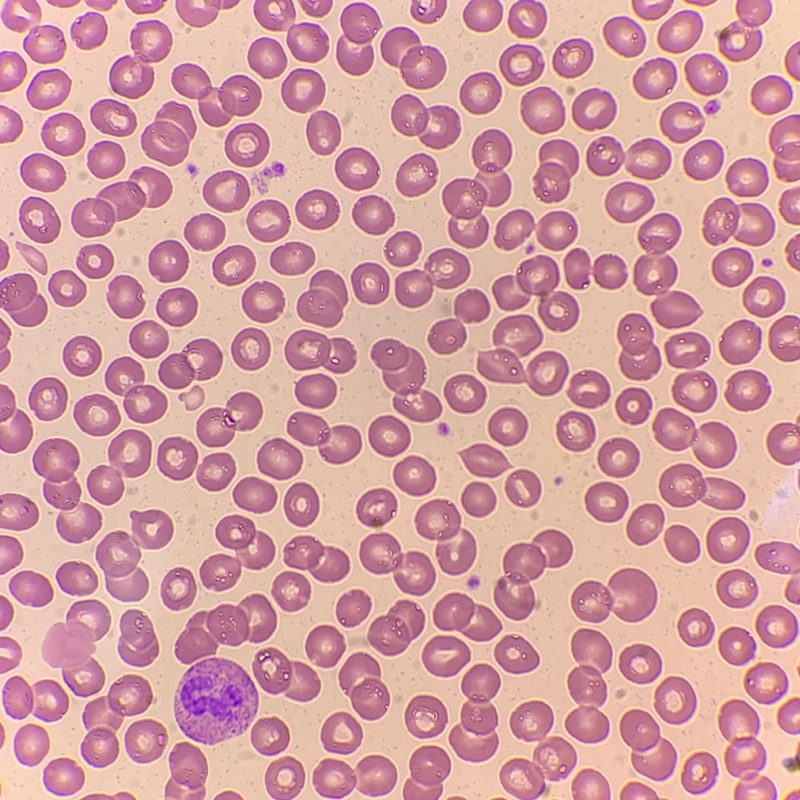RBC: (443, 129, 511, 247), (634, 213, 700, 328), (174, 658, 257, 743), (175, 594, 276, 663), (494, 530, 572, 619), (72, 167, 171, 236), (81, 675, 151, 767), (492, 256, 578, 330), (371, 339, 441, 421), (51, 600, 110, 696), (200, 515, 274, 590), (172, 64, 260, 126), (449, 664, 499, 761), (653, 408, 735, 467), (109, 20, 171, 98), (500, 737, 576, 799), (572, 568, 656, 622), (360, 534, 434, 594), (395, 249, 469, 307), (428, 289, 489, 354), (105, 357, 166, 422), (620, 710, 676, 780), (381, 27, 445, 88), (660, 464, 744, 509), (287, 412, 361, 463), (391, 95, 459, 148), (96, 532, 147, 601), (253, 648, 320, 700), (197, 392, 261, 446), (141, 102, 195, 164), (703, 198, 774, 245), (339, 653, 389, 719), (33, 439, 80, 509), (717, 0, 771, 60), (433, 593, 500, 641), (159, 339, 222, 388), (368, 600, 424, 655), (337, 3, 380, 74), (285, 330, 355, 372), (284, 536, 349, 581), (297, 270, 347, 326), (618, 314, 660, 379), (535, 140, 578, 201), (403, 746, 450, 799), (0, 273, 46, 326), (165, 742, 207, 797), (118, 610, 158, 666), (521, 87, 564, 133), (109, 430, 151, 476), (493, 315, 541, 355), (707, 517, 749, 562), (203, 171, 249, 212), (655, 677, 696, 723), (606, 182, 653, 222), (423, 636, 470, 676), (225, 123, 268, 166), (658, 10, 702, 52), (719, 320, 761, 364), (257, 438, 302, 479), (282, 69, 324, 112), (42, 113, 85, 155), (74, 395, 119, 435), (756, 605, 798, 647), (405, 695, 447, 737), (500, 44, 543, 85), (673, 371, 716, 412), (572, 89, 616, 129), (726, 370, 770, 410), (416, 500, 460, 540), (744, 663, 788, 703), (20, 197, 59, 242), (335, 148, 377, 189), (125, 720, 166, 762), (633, 58, 676, 98), (27, 69, 70, 109), (725, 737, 765, 780), (20, 153, 65, 191), (460, 72, 501, 113), (247, 200, 288, 241), (685, 54, 727, 94), (661, 102, 703, 142), (477, 348, 525, 383), (157, 437, 197, 479), (585, 482, 628, 521), (529, 351, 567, 395), (90, 99, 135, 136), (629, 139, 670, 179), (743, 276, 784, 316), (296, 190, 338, 229), (242, 283, 284, 322), (510, 701, 552, 740), (265, 757, 304, 799), (313, 759, 355, 798), (369, 416, 409, 456), (321, 713, 361, 753), (604, 17, 645, 56), (397, 154, 436, 195), (598, 438, 639, 477), (394, 456, 435, 495), (620, 644, 661, 683), (23, 25, 65, 63), (352, 196, 394, 234), (149, 240, 187, 282), (495, 636, 538, 673), (537, 211, 577, 250), (571, 629, 611, 668), (287, 23, 328, 61), (213, 246, 254, 284), (569, 370, 610, 408), (444, 374, 485, 412), (306, 626, 344, 667), (29, 378, 66, 420), (566, 706, 608, 743), (665, 332, 709, 367), (553, 38, 592, 77), (684, 140, 723, 179), (436, 535, 475, 574), (248, 38, 286, 78), (752, 75, 792, 113), (727, 158, 767, 196), (712, 248, 752, 286), (351, 263, 389, 303), (132, 510, 172, 548), (358, 755, 396, 795), (232, 328, 269, 369), (233, 477, 276, 512), (57, 507, 100, 542), (495, 210, 533, 249), (157, 288, 196, 326), (63, 336, 101, 375), (357, 489, 396, 527), (717, 570, 757, 607), (43, 758, 83, 795), (681, 753, 717, 794), (108, 276, 143, 318), (10, 571, 52, 606), (284, 483, 318, 526), (568, 665, 606, 703), (587, 136, 624, 175), (129, 320, 168, 357), (488, 408, 527, 445), (557, 412, 594, 451), (184, 214, 224, 250), (462, 444, 507, 476), (627, 504, 663, 544), (307, 111, 340, 154), (251, 718, 289, 755), (295, 374, 336, 408), (161, 568, 195, 609), (271, 242, 314, 274), (509, 0, 546, 37), (197, 453, 234, 490), (87, 466, 123, 504), (273, 572, 309, 610), (719, 627, 755, 665), (719, 700, 759, 734), (14, 725, 48, 765), (35, 680, 68, 721), (769, 316, 799, 361), (756, 542, 799, 573), (71, 12, 107, 49), (88, 141, 124, 178), (767, 423, 799, 464), (770, 114, 799, 159), (49, 270, 85, 306), (0, 494, 37, 529), (678, 609, 713, 646), (57, 562, 97, 594), (2, 677, 33, 718), (665, 525, 699, 562), (0, 413, 32, 452), (616, 388, 651, 423), (77, 244, 113, 278), (506, 470, 540, 506), (336, 590, 370, 626), (463, 0, 502, 31), (254, 0, 294, 30), (386, 231, 420, 266), (593, 254, 626, 288), (462, 482, 495, 516), (0, 51, 26, 91), (564, 249, 590, 289), (176, 0, 214, 26), (0, 535, 22, 573), (572, 769, 598, 799), (411, 0, 446, 22), (778, 698, 799, 733), (632, 0, 667, 19), (21, 245, 46, 271), (0, 113, 22, 142), (781, 189, 799, 224), (620, 782, 656, 799), (2, 9, 26, 31), (0, 385, 14, 421), (785, 43, 799, 78), (302, 0, 332, 16), (126, 0, 162, 13), (776, 163, 799, 181), (787, 236, 799, 268), (0, 597, 12, 629), (785, 579, 799, 603), (758, 779, 775, 795), (0, 322, 9, 348), (784, 755, 799, 770), (0, 657, 14, 672), (0, 242, 8, 268), (21, 0, 38, 12), (599, 781, 610, 799), (705, 100, 719, 113), (51, 0, 75, 7), (271, 163, 283, 176), (735, 785, 746, 799), (217, 792, 239, 799), (0, 352, 9, 368), (0, 637, 12, 647), (468, 577, 478, 588), (87, 794, 106, 799), (223, 0, 236, 7), (206, 0, 220, 6), (188, 793, 202, 799), (119, 793, 132, 799), (695, 0, 710, 5), (438, 424, 446, 433), (789, 792, 799, 799), (0, 731, 4, 740), (87, 0, 95, 4)
